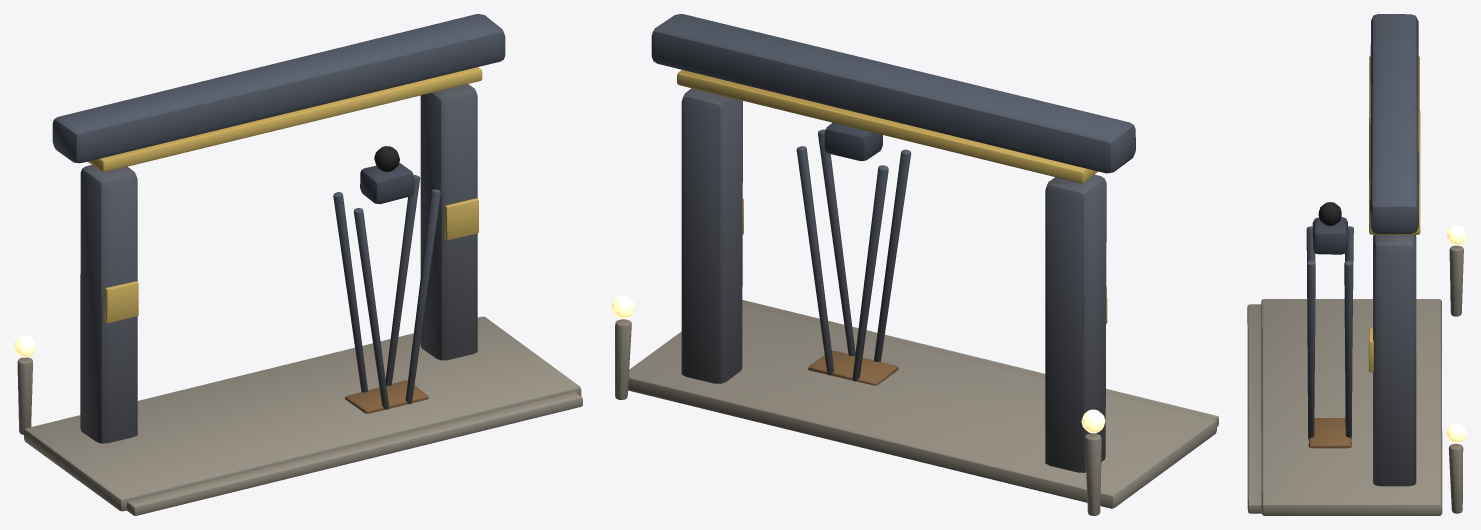
The picture shows the model from 3 angles, left to right: view 1: azimuth 30°, elevation 25°; view 2: azimuth 150°, elevation 25°; view 3: azimuth 270°, elevation 25°; orthographic projection. The views are drawn at different scales.
Parts seen in each view (by area): view 1: gate_91358dcf; view 2: gate_91358dcf; view 3: gate_91358dcf.
Boxes of the visible parts, <box> form: gate_91358dcf: <box>14,14,582,515</box>; gate_91358dcf: <box>611,14,1218,515</box>; gate_91358dcf: <box>1247,14,1466,515</box>.
Size of the model in its own units: 5.7 by 3.93 by 2.55.
